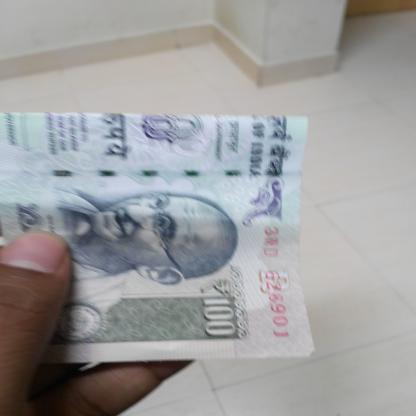Old100Front: (0, 112, 317, 364)
